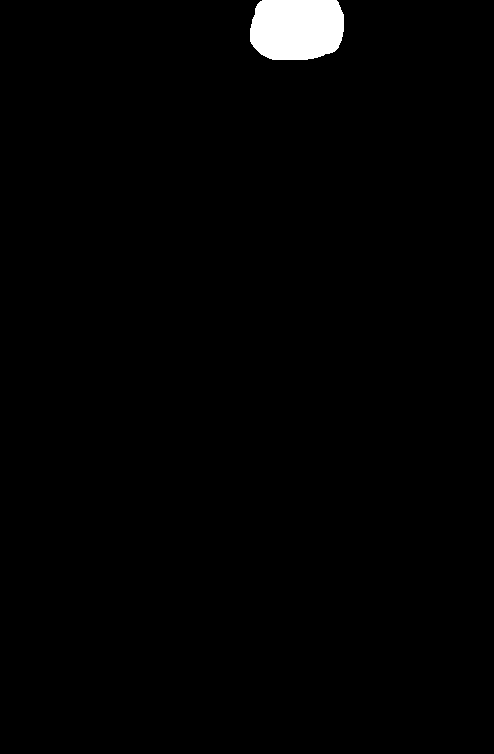veins_detect: (235, 2, 354, 69)
veins_seg: (250, 1, 343, 60)
